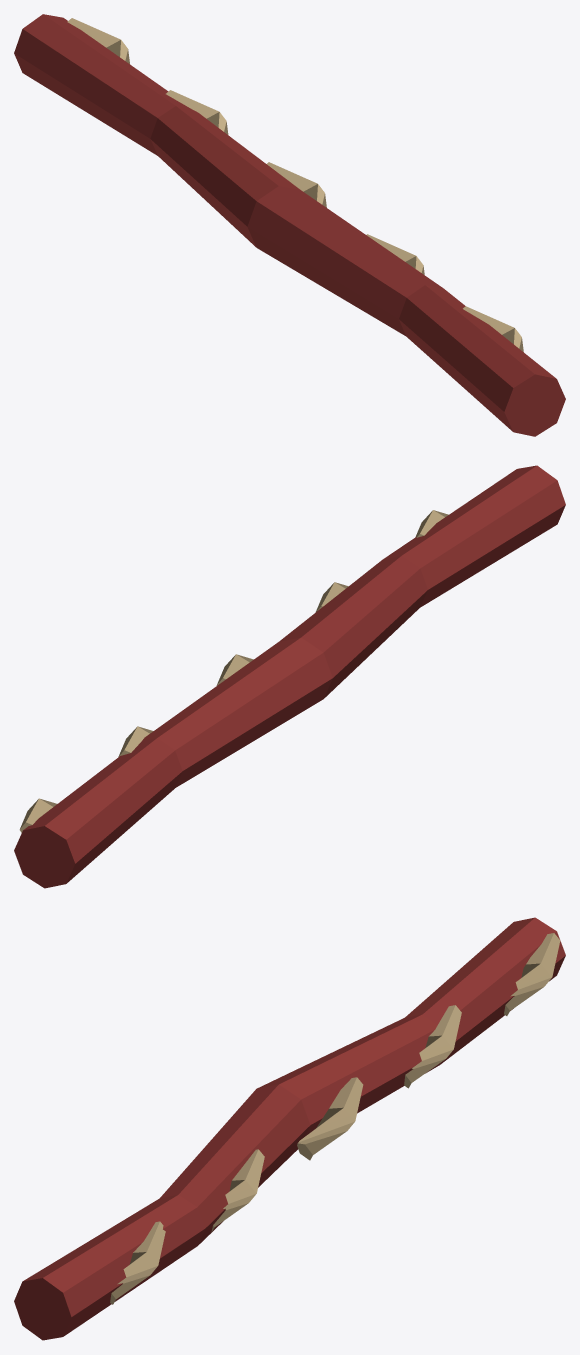
File: HookTether_Segment.glb
3 renders of one model, top to bottom at view 1: azimuth 30°, elevation 25°; view 2: azimuth 150°, elevation 25°; view 3: azimuth 330°, elevation 25°, orthographic.
Visible parts, largest first — view 1: HookTether_Segment; view 2: HookTether_Segment; view 3: HookTether_Segment.
Part boxes in pixels (x1=…): HookTether_Segment: x1=14, y1=14, x2=565, y2=436; HookTether_Segment: x1=14, y1=465, x2=565, y2=888; HookTether_Segment: x1=14, y1=917, x2=565, y2=1340.
Bounding box in the file's own units: 0.109 × 0.082 × 1.
